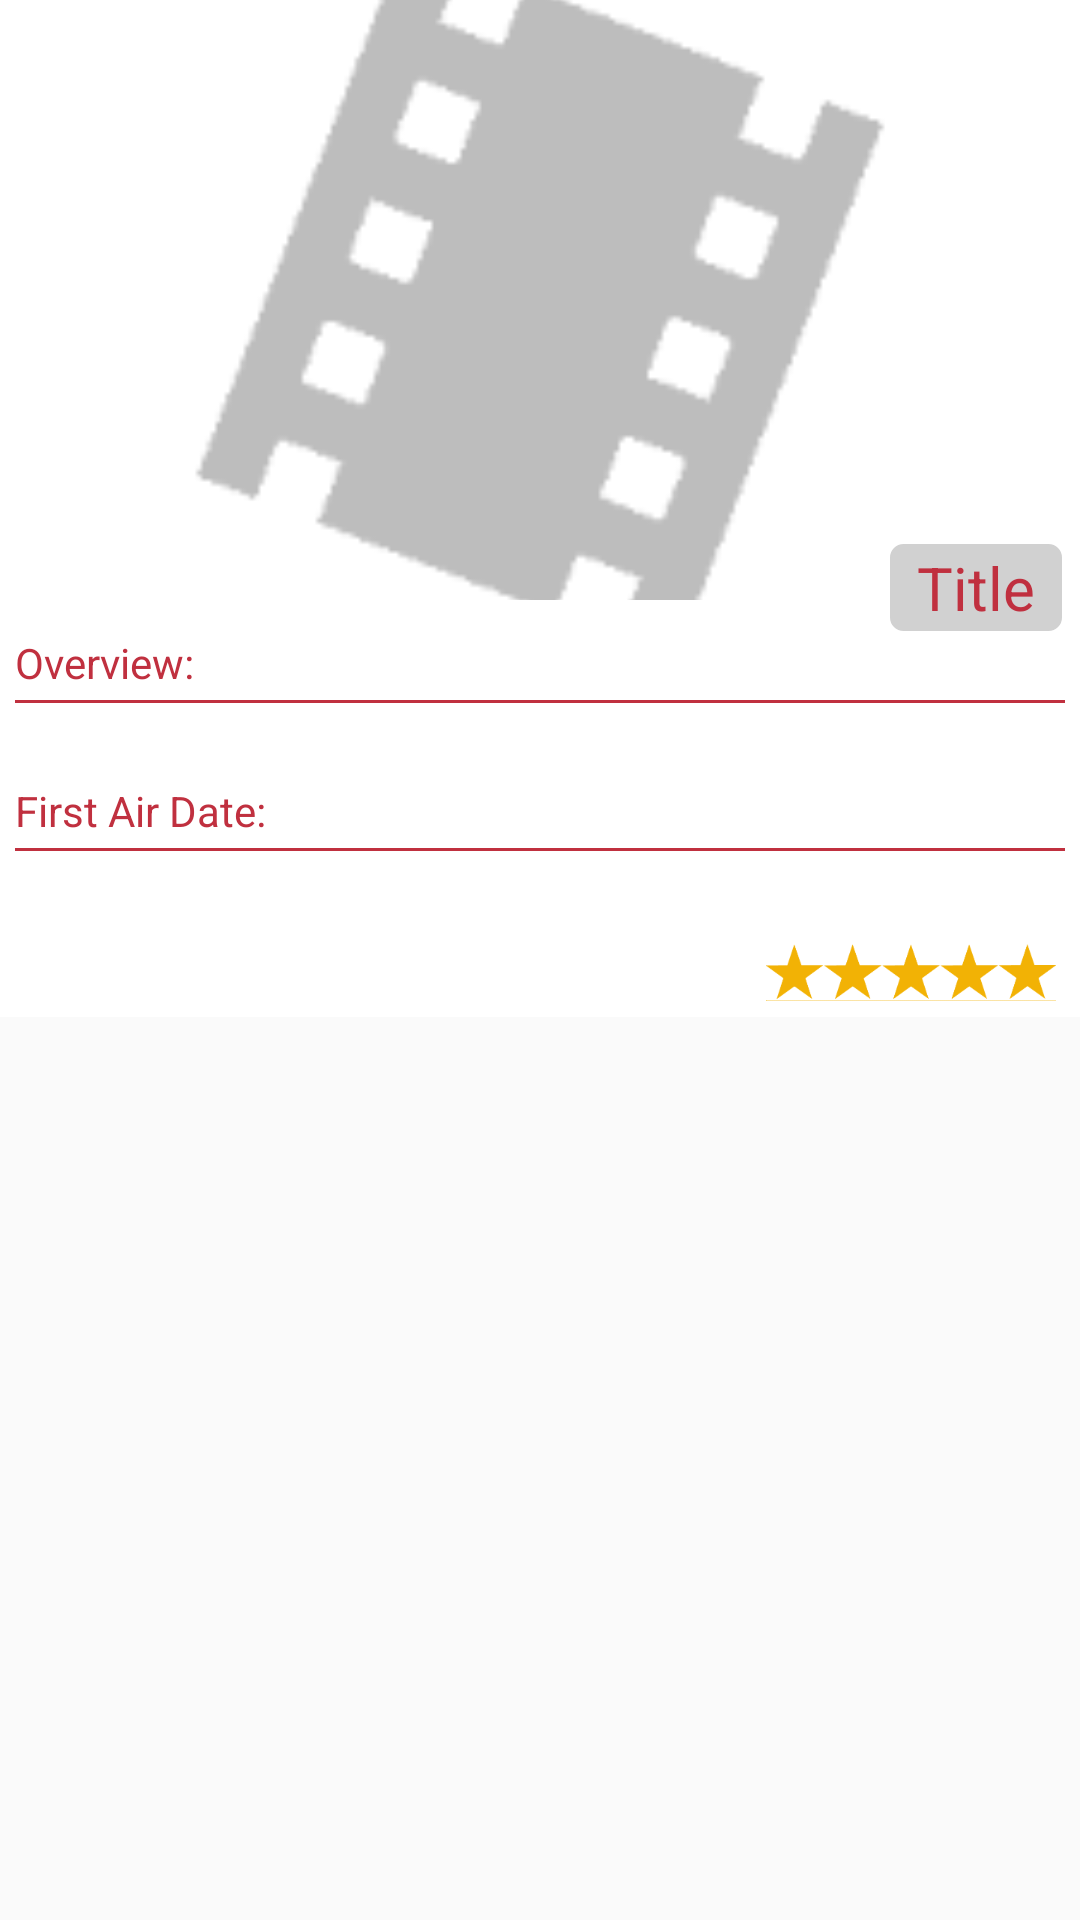

Named icons in this screenshot (1080x1920) and their bounding boxes, Rect(x1, y1, x2, y2):
stars: Rect(766, 944, 1056, 1001)
